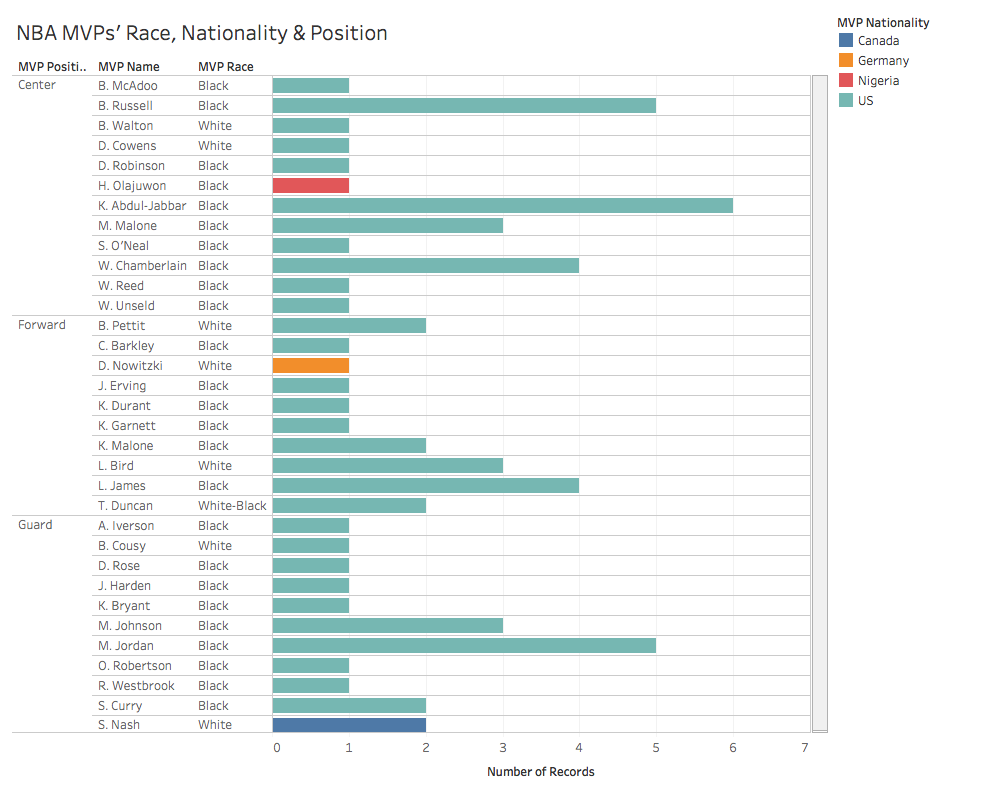

The dashboard page shown, as its layout file describes it:
{"tool":"tableau","page":{"name":"Dashboard 1","canvas":[1000,800],"ordinal":0},"visuals":[{"type":"worksheet","title":"Sheet 1","mark":"Automatic","rows":["Team"],"cols":[" Total Attendance"],"box":[8,8,824,784]},{"type":"legend","title":"Sheet 1","param":"[federated.00uhm0e1355ta71ero8c80fyin8d].[none:Starting Year:qk]","box":[832,8,160,65]}]}

Visuals, with their boxes in screenshot pixels (x1, y1, x2, y2), scaled from the page's 1000x800 canvas onto the 1000x800 screenshot:
"Sheet 1" worksheet: detection(8, 8, 832, 792)
"Sheet 1" legend: detection(832, 8, 992, 73)
